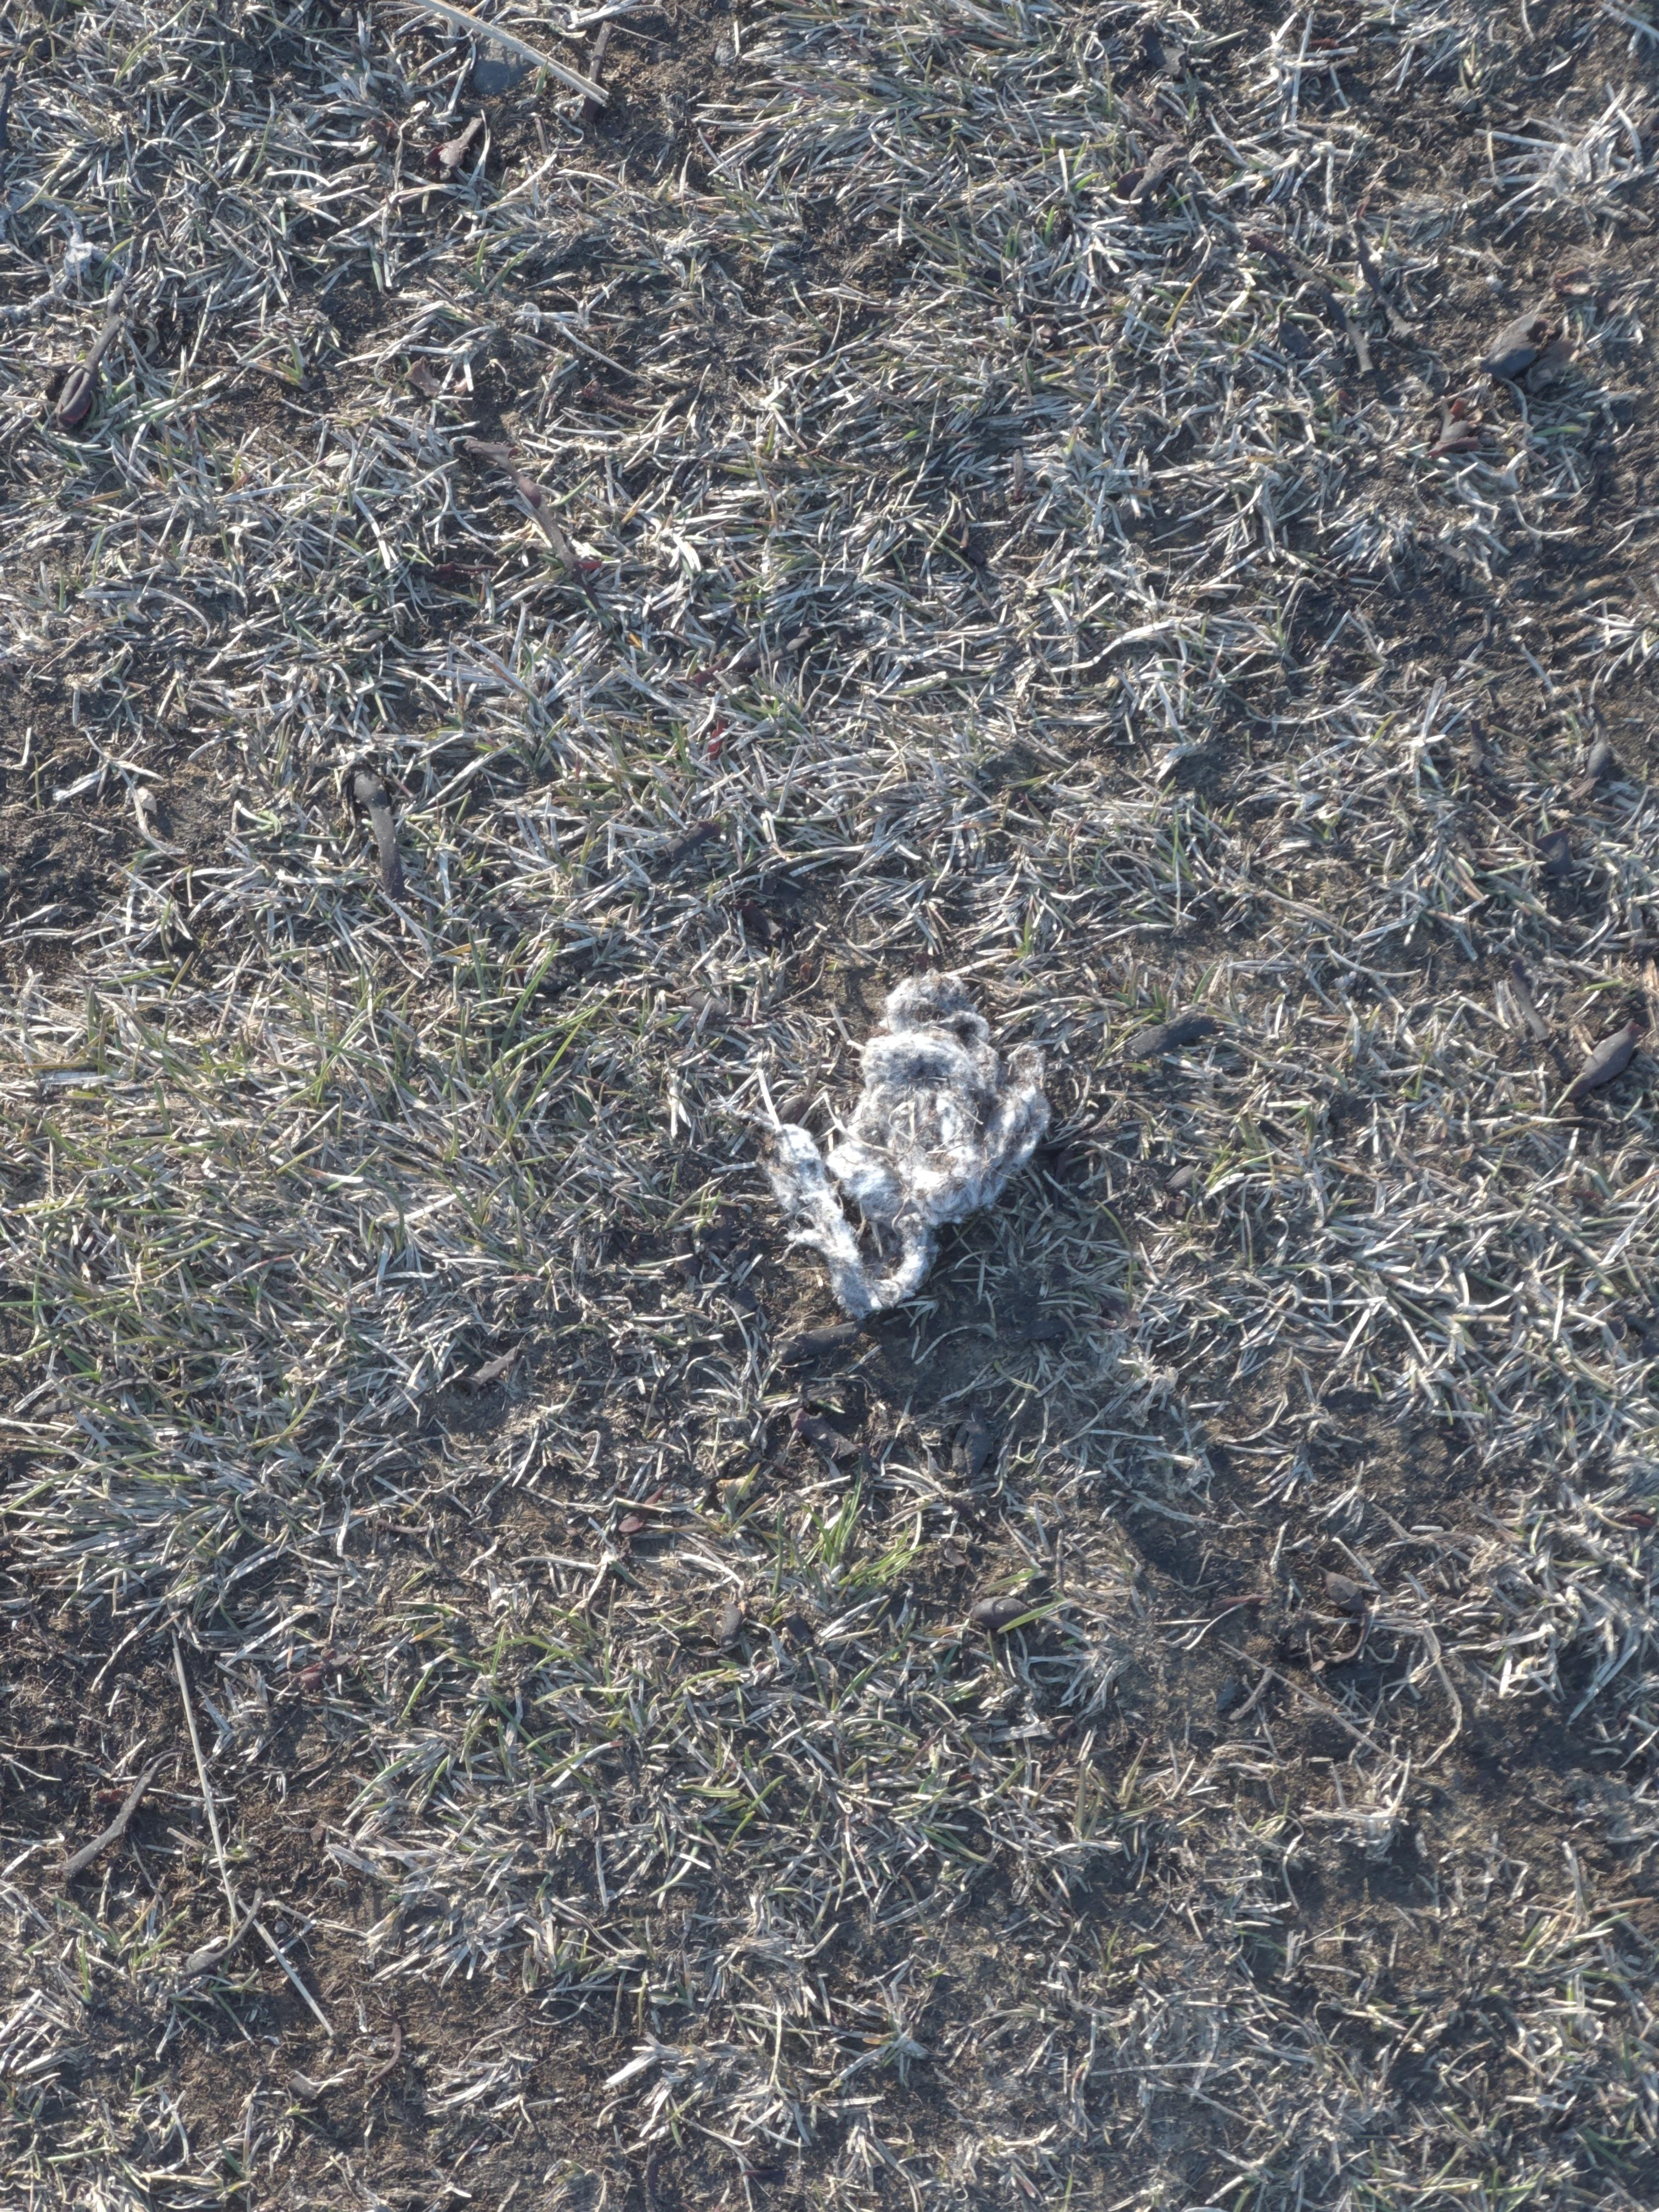trash: (769, 972, 1049, 1318)
